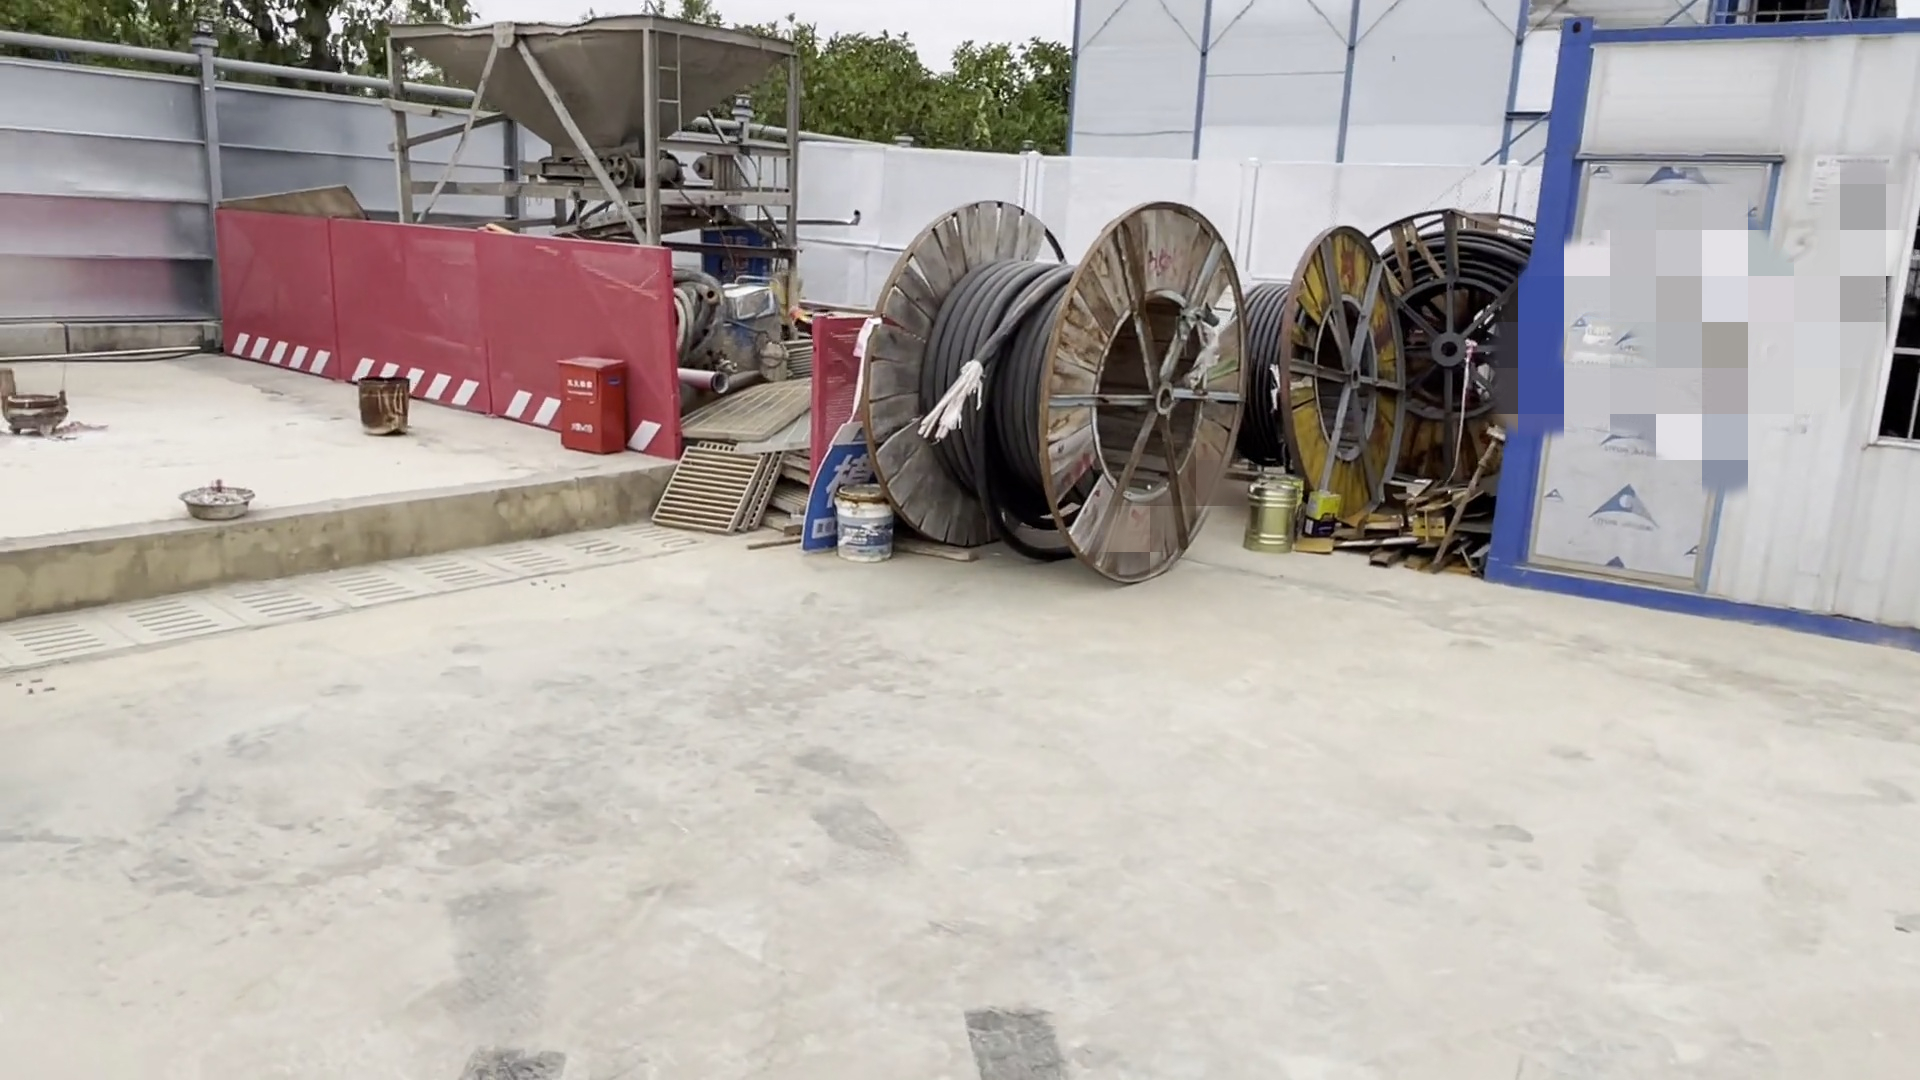fence: (206, 193, 675, 451)
